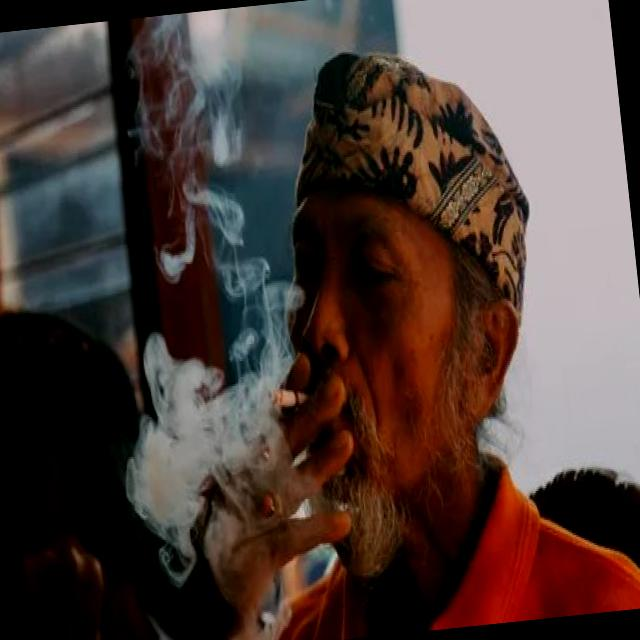cigarette: (264, 377, 316, 418)
